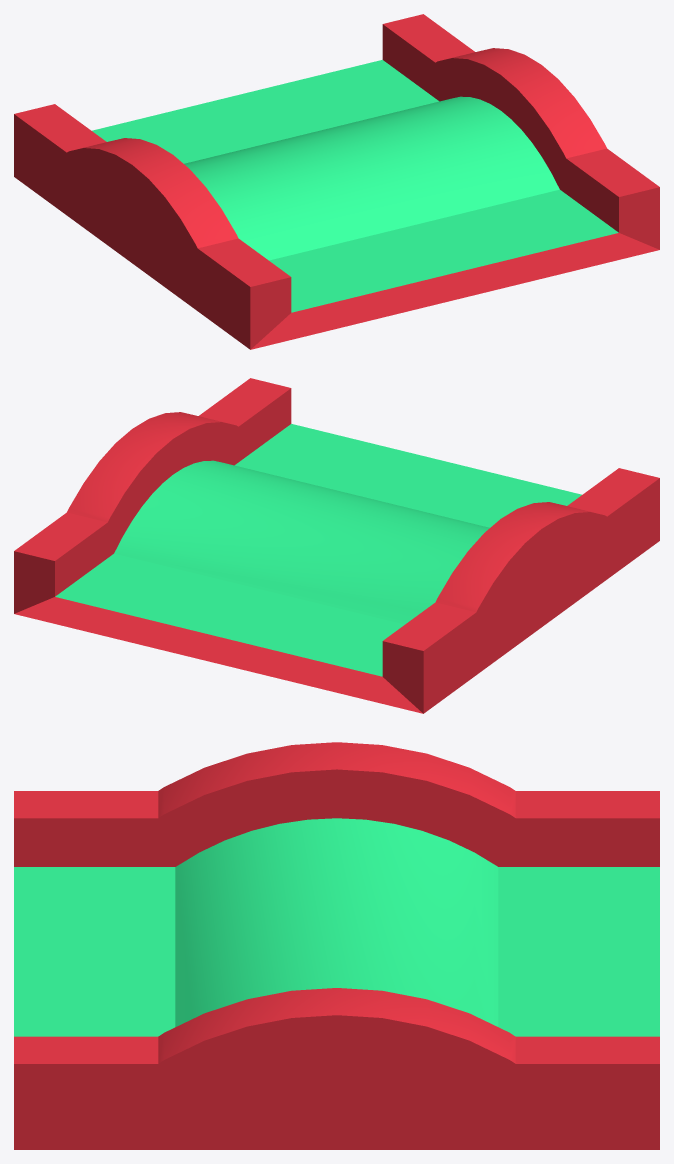
The model's file is hillRound.fbx.
3 views of the same model, one above another, from view 1: azimuth 30°, elevation 25°; view 2: azimuth 150°, elevation 25°; view 3: azimuth 270°, elevation 25° (orthographic). The views are drawn at different scales.
Visible parts, largest first — view 1: hillRound; view 2: hillRound; view 3: hillRound.
Part boxes in pixels (box(x1,y1,x2,y2)): hillRound: box(14, 14, 659, 349); hillRound: box(14, 378, 659, 713); hillRound: box(14, 742, 659, 1149).
Bounding box in the file's own units: 99.99 × 99.99 × 23.
